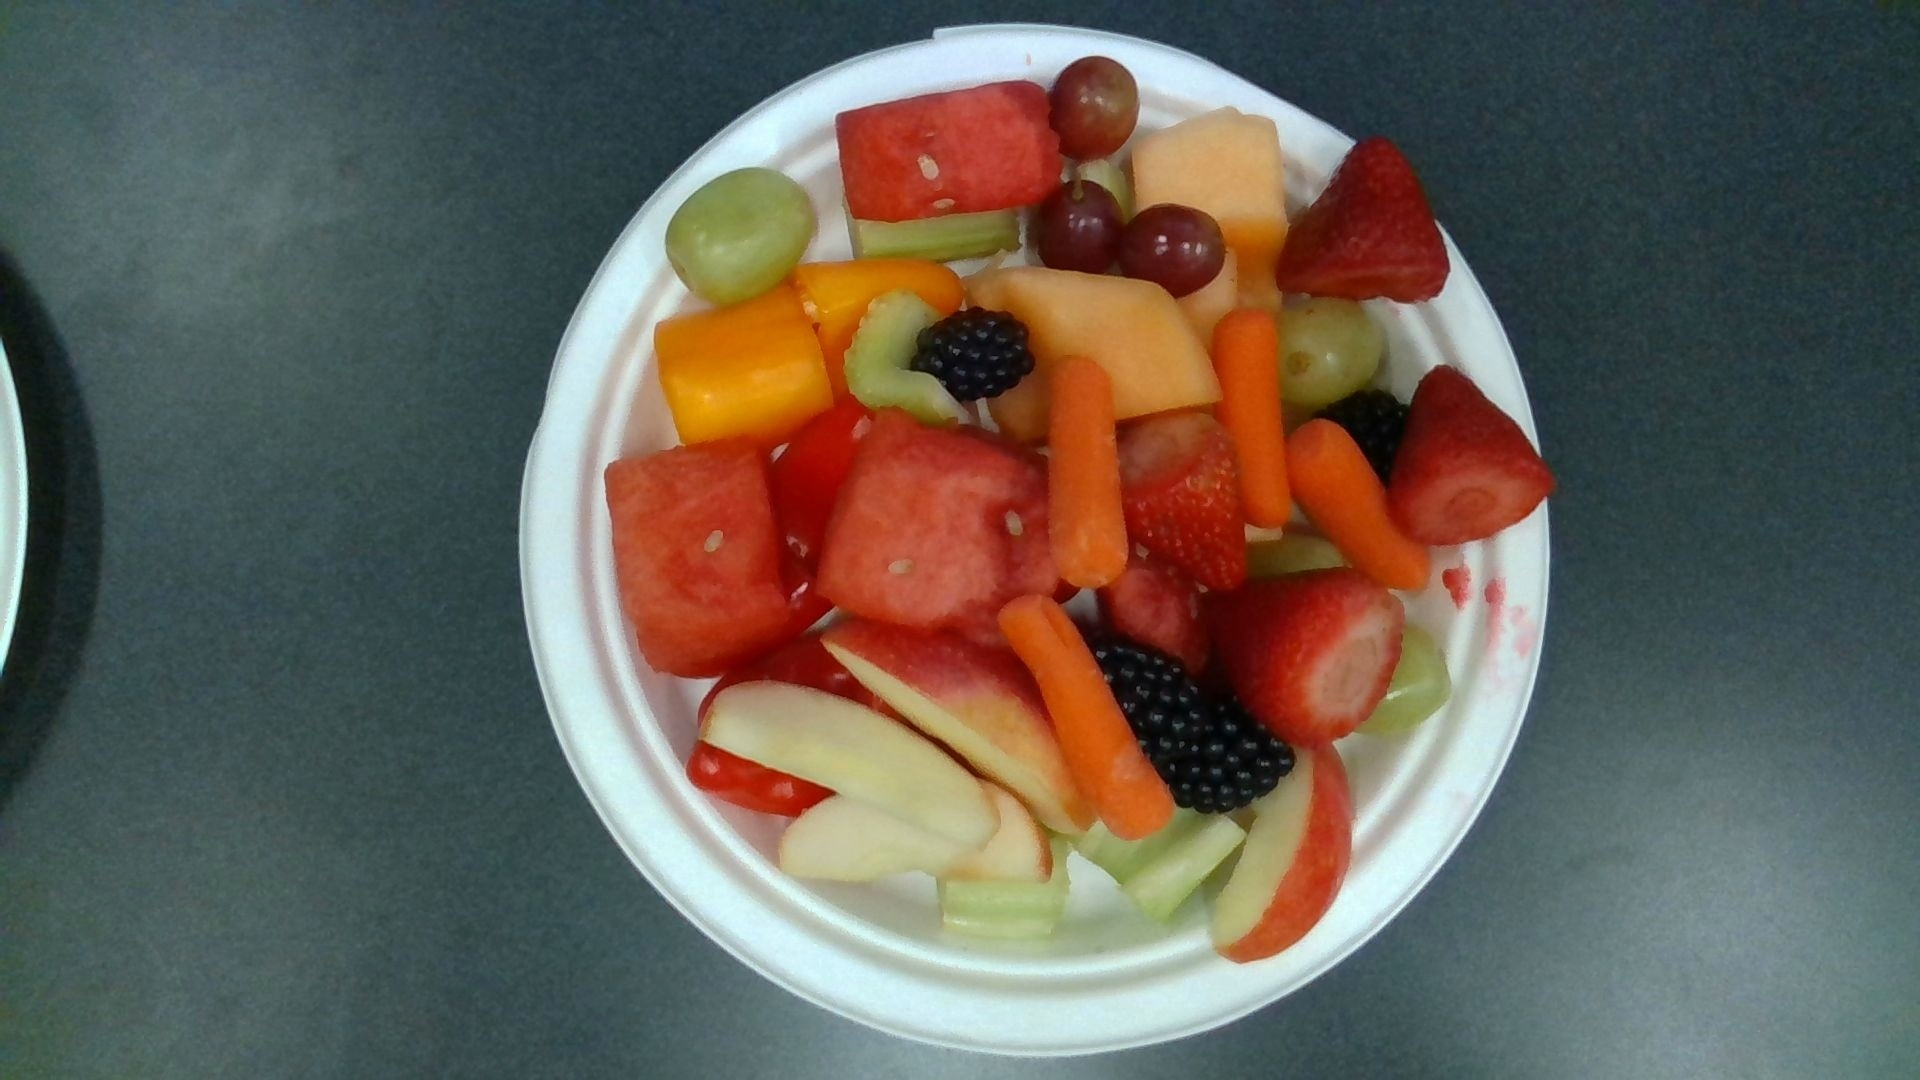apple: (827, 626, 1091, 831), (699, 680, 992, 847), (1217, 742, 1349, 963)
bell_pepper: (654, 303, 833, 443)
blackberry: (1168, 698, 1295, 814), (914, 313, 1035, 400)
cantalope: (972, 272, 1222, 407), (1129, 111, 1287, 243)
carrot: (997, 597, 1174, 837), (1290, 419, 1433, 591), (1050, 356, 1129, 588), (1212, 311, 1292, 527)
grape_green: (669, 171, 815, 301), (1284, 306, 1385, 405)
grape_purple: (1050, 61, 1139, 161), (1124, 208, 1226, 295), (1040, 186, 1124, 273)
melon: (815, 415, 1052, 636), (607, 443, 789, 673), (839, 86, 1059, 218)
strawberry: (1215, 574, 1402, 748), (1389, 373, 1555, 543), (1276, 142, 1449, 301), (1127, 415, 1247, 585)
